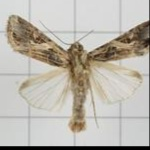Spodoptera litura: (4, 14, 149, 133)
